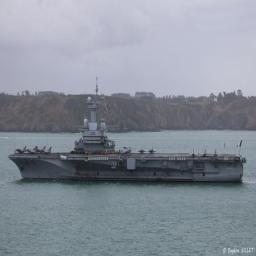Portanaves: (7, 80, 249, 183)
